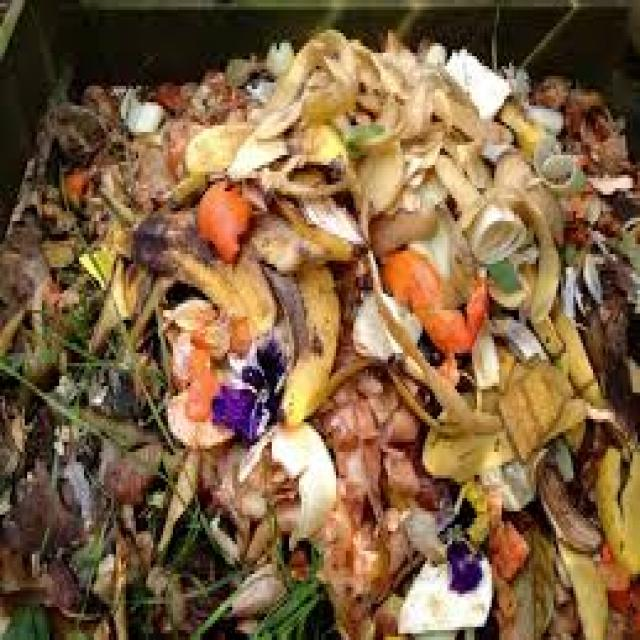food_waste: (68, 110, 589, 618)
